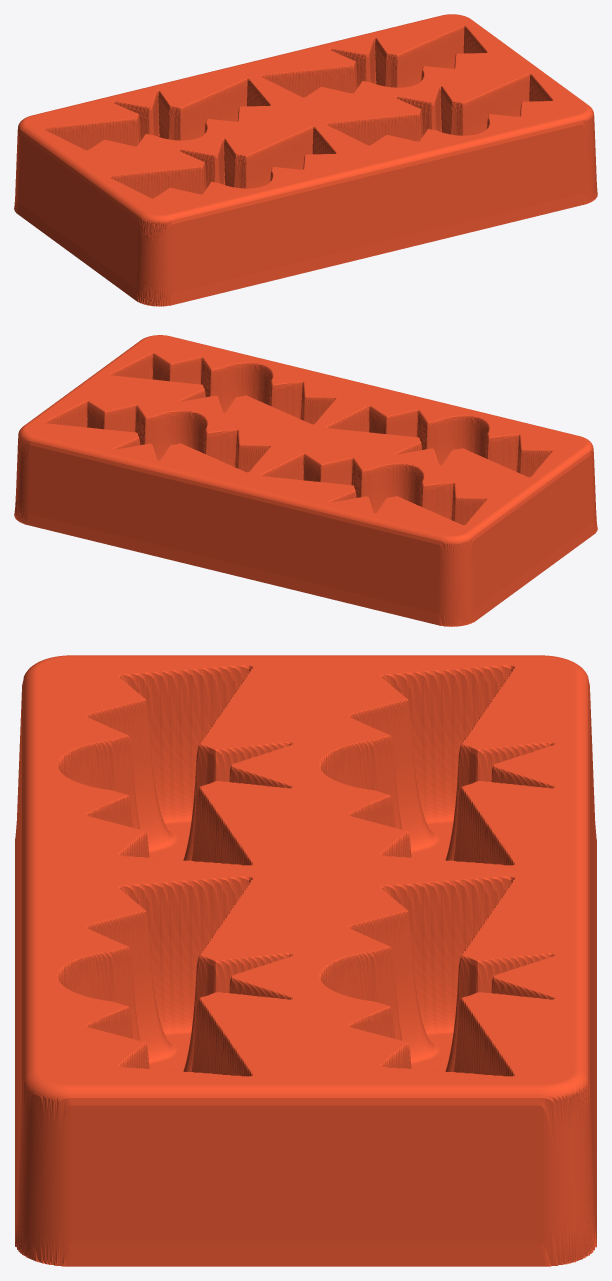
Rendered from mold.glb.
The picture shows the model from 3 angles, top to bottom: view 1: azimuth 30°, elevation 25°; view 2: azimuth 150°, elevation 25°; view 3: azimuth 270°, elevation 25°; orthographic projection. The views are drawn at different scales.
Visible parts, largest first — view 1: geometry_0; view 2: geometry_0; view 3: geometry_0.
Part boxes in pixels (x1,y1,x2,y2): geometry_0: (14,14,597,306); geometry_0: (14,335,597,626); geometry_0: (15,655,596,1266).
Size of the model in its own units: 0.1721 by 0.031 by 0.0947.
